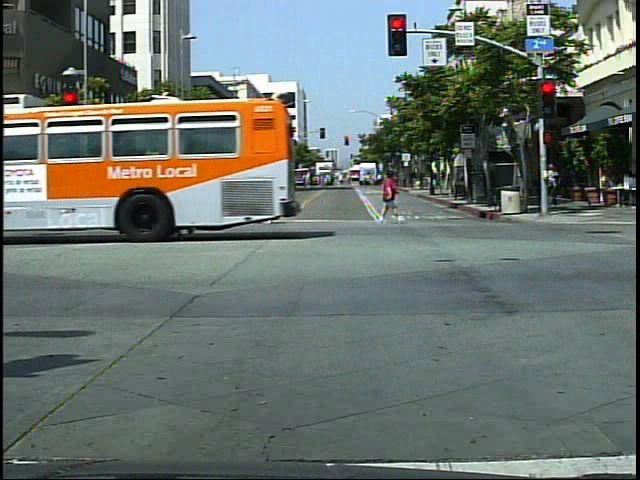person: (254, 166, 286, 230), (146, 169, 176, 235), (378, 167, 402, 228), (546, 161, 564, 212)
